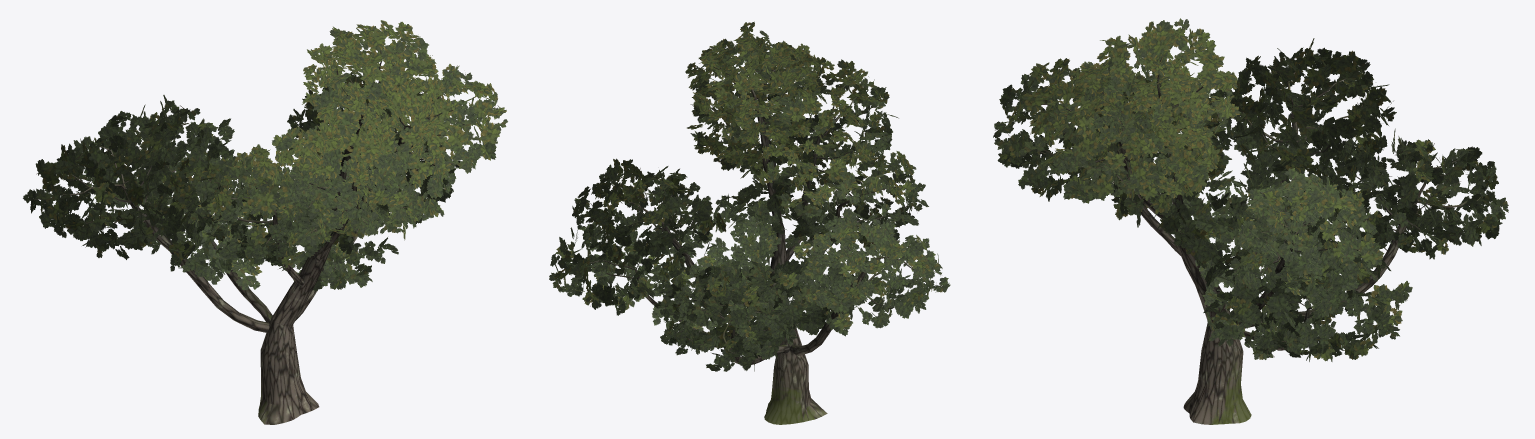
File: oak_a.glb
3 views of the same model, side by side, from view 1: azimuth 30°, elevation 25°; view 2: azimuth 150°, elevation 25°; view 3: azimuth 270°, elevation 25° (orthographic). The views are drawn at different scales.
Visible parts, largest first — view 1: oak_a_extra0, oak_a_LOD0; view 2: oak_a_extra0, oak_a_LOD0; view 3: oak_a_extra0, oak_a_LOD0.
Boxes of the visible parts, x1=… form: oak_a_extra0: x1=23, y1=20, x2=507, y2=291; oak_a_LOD0: x1=63, y1=49, x2=464, y2=424; oak_a_extra0: x1=549, y1=21, x2=950, y2=371; oak_a_LOD0: x1=590, y1=61, x2=914, y2=424; oak_a_extra0: x1=993, y1=18, x2=1508, y2=361; oak_a_LOD0: x1=1042, y1=57, x2=1481, y2=424.
Size of what is drawn, in the model's own units: 22.04 by 19.35 by 22.1.
Materials: 2 (2 with a texture image).
